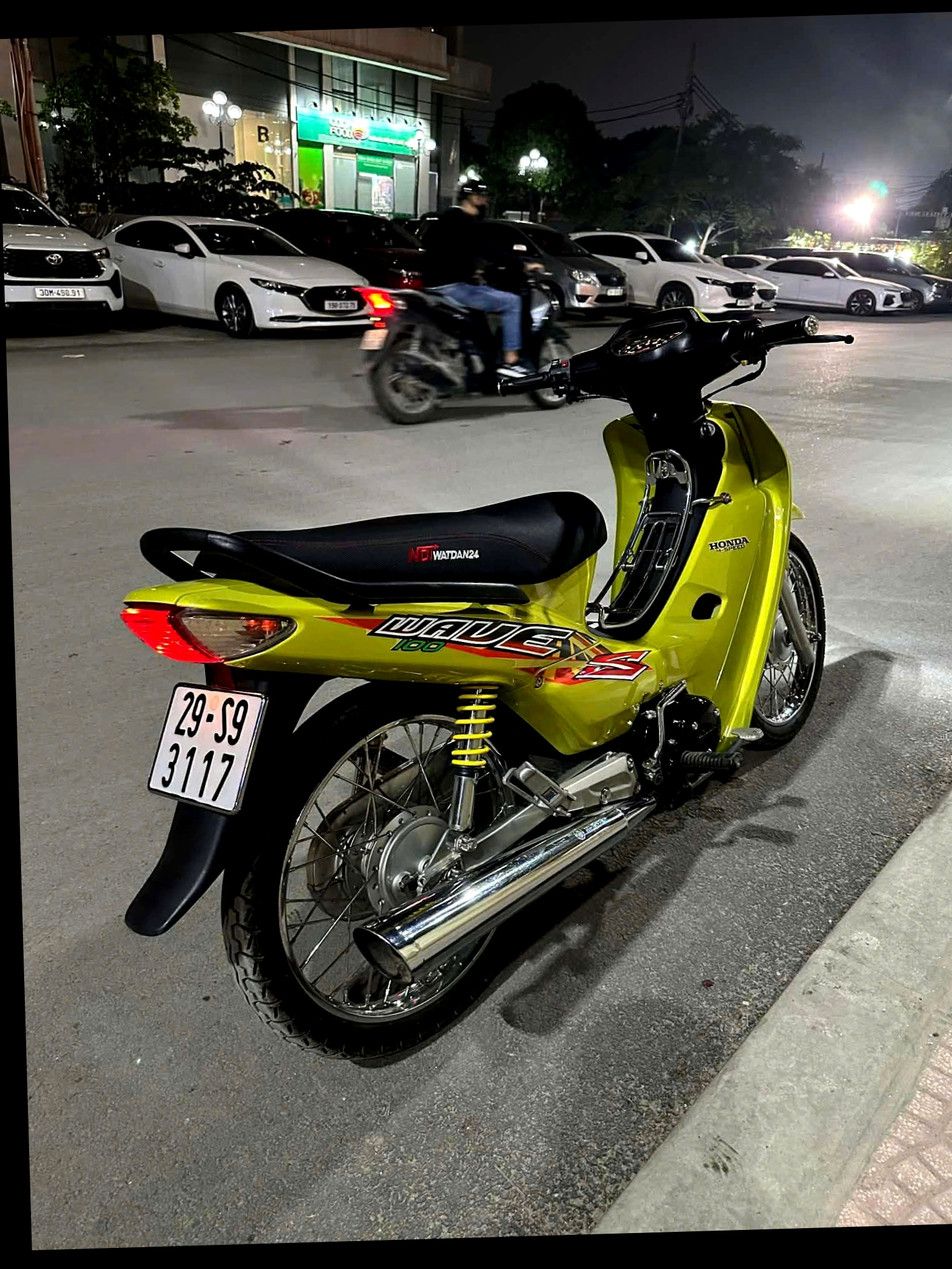Bien-so: (134, 646, 257, 791)
